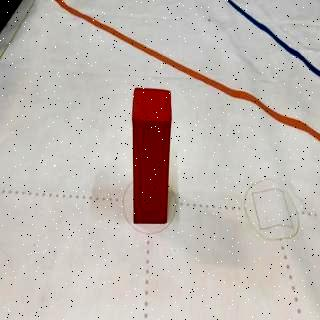redbox: (132, 89, 168, 225)
